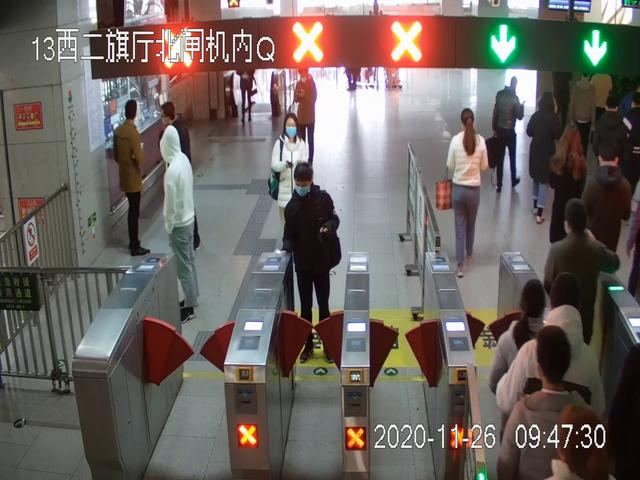person: (495, 279, 602, 480), (489, 280, 574, 480), (498, 328, 601, 480), (544, 200, 619, 397), (282, 164, 341, 364), (436, 108, 488, 279), (158, 126, 203, 321), (266, 115, 311, 276), (580, 147, 631, 270), (112, 98, 151, 256), (549, 122, 590, 265), (526, 91, 567, 223), (491, 76, 528, 194)
